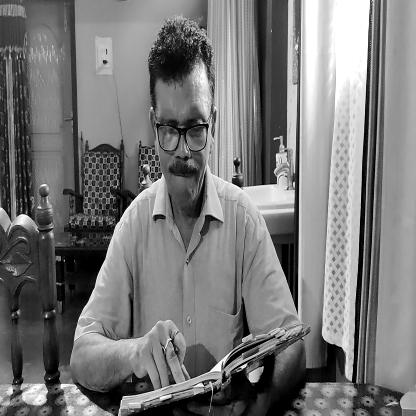Normal: (147, 17, 213, 205)
